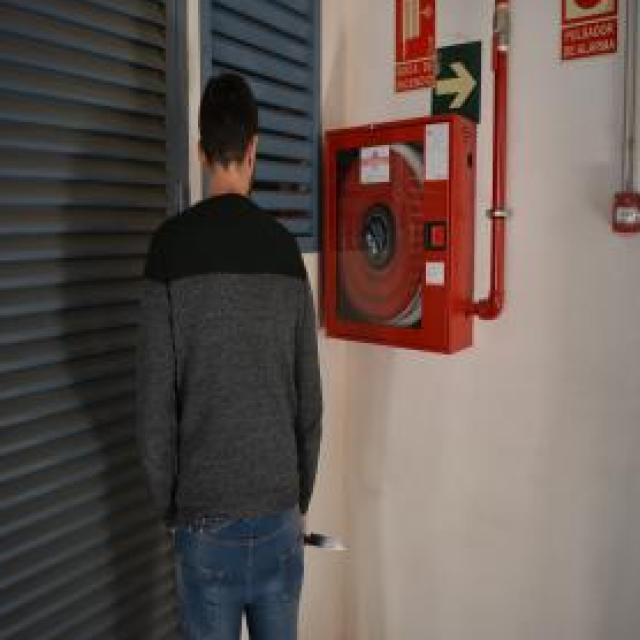knife: (304, 525, 354, 554)
